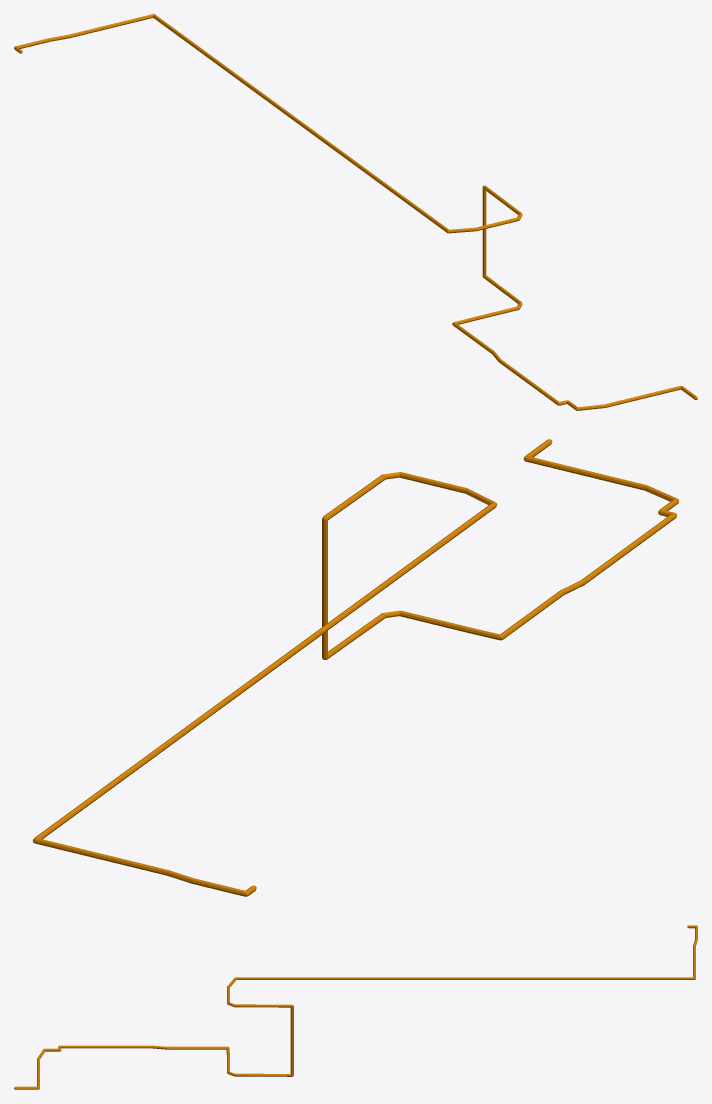
3 renders of one model, top to bottom at view 1: azimuth 30°, elevation 25°; view 2: azimuth 150°, elevation 25°; view 3: azimuth 270°, elevation 25°, orthographic. The views are drawn at different scales.
Bounding box in the file's own units: 1446 × 520 × 4474.
